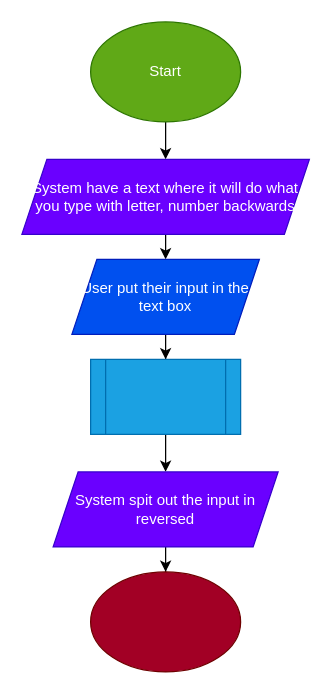
This 331x694 diagram has some shape labels left out. Each missing label, with the centre of its shape:
"End" belongs at point (165, 621).
"System process the information that it took for the user" belongs at point (165, 396).
